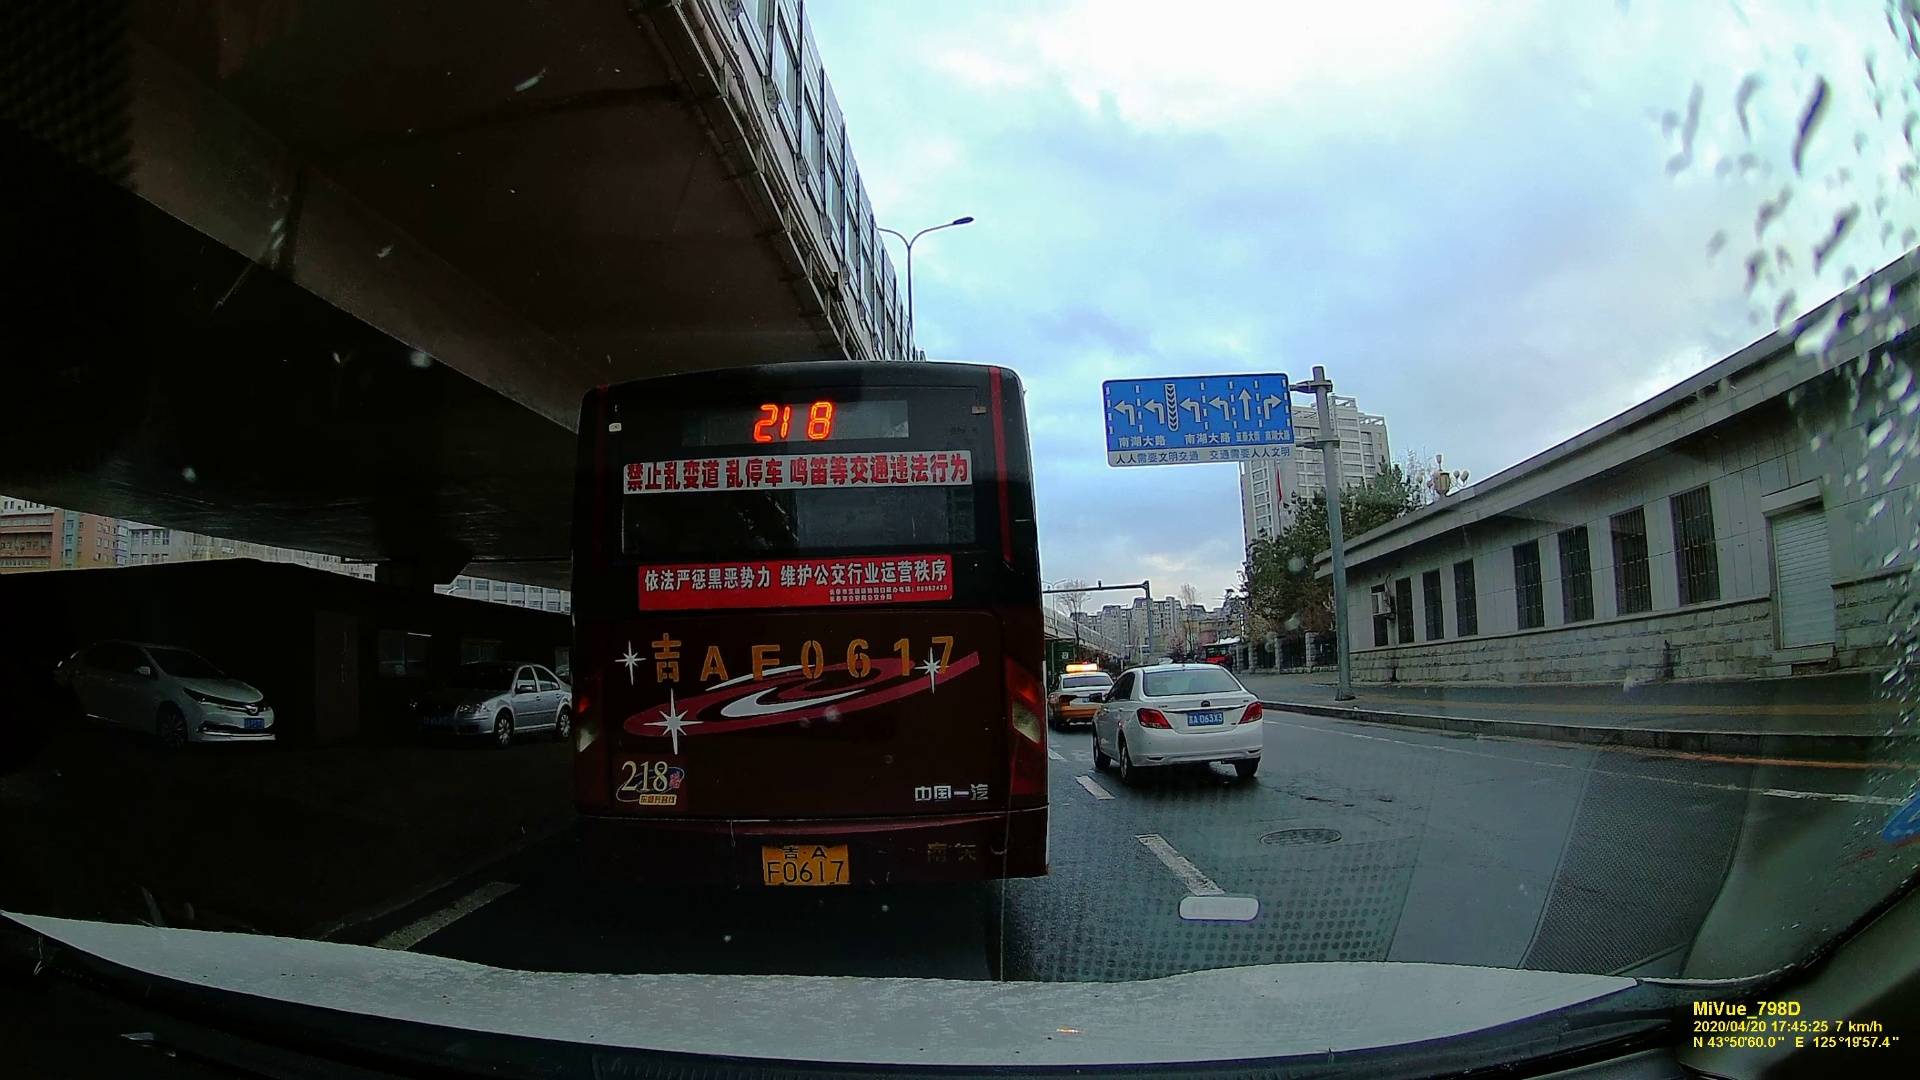bus: (574, 368, 1046, 915)
traffic_sign: (1106, 371, 1290, 462)
vehicle: (54, 634, 276, 752), (1093, 662, 1267, 786), (411, 655, 566, 757), (1052, 663, 1109, 725)
